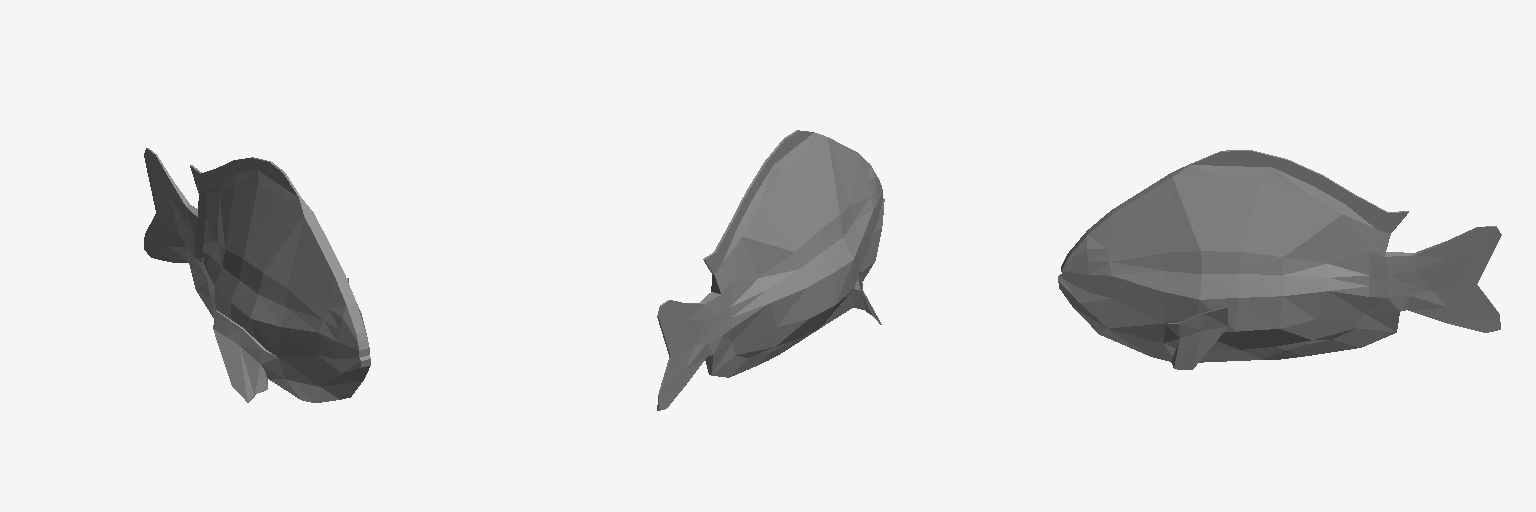
File: TropicalFish13.obj
3 views of the same model, side by side, from view 1: azimuth 30°, elevation 25°; view 2: azimuth 150°, elevation 25°; view 3: azimuth 270°, elevation 25° (orthographic).
Visible parts, largest first — view 1: TropicalFish13; view 2: TropicalFish13; view 3: TropicalFish13.
Part boxes in pixels (bbox=[...]): TropicalFish13: bbox=[144, 148, 370, 402]; TropicalFish13: bbox=[657, 130, 884, 410]; TropicalFish13: bbox=[1058, 150, 1501, 369].
Bounding box in the file's own units: 104 × 153 × 292.